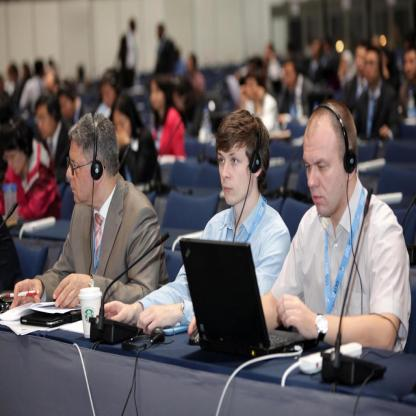board: (179, 235, 309, 358)
